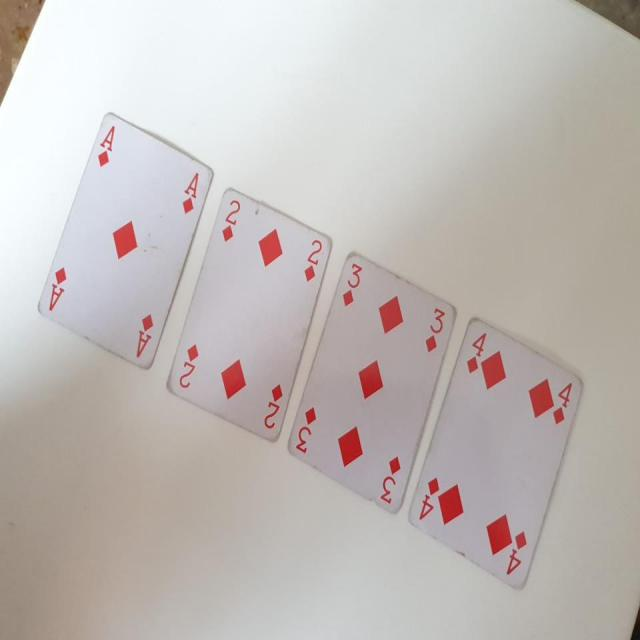2 Diamonds: (166, 188, 334, 442)
3 Diamonds: (280, 249, 456, 521)
4 Diamonds: (405, 314, 583, 589)
A Diamonds: (32, 103, 222, 384)
